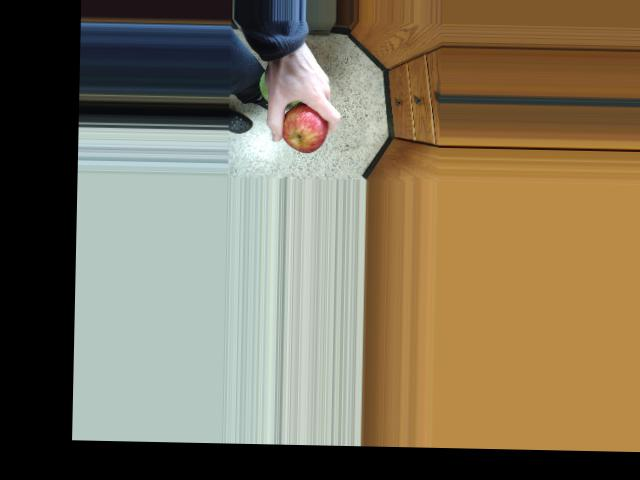apple: (274, 96, 331, 155)
